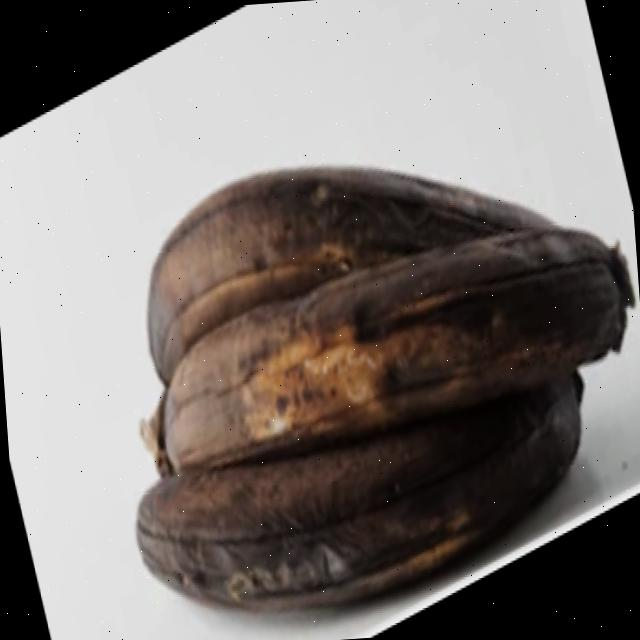rotten banana: (89, 215, 640, 455), (94, 389, 640, 620), (124, 111, 577, 330)
